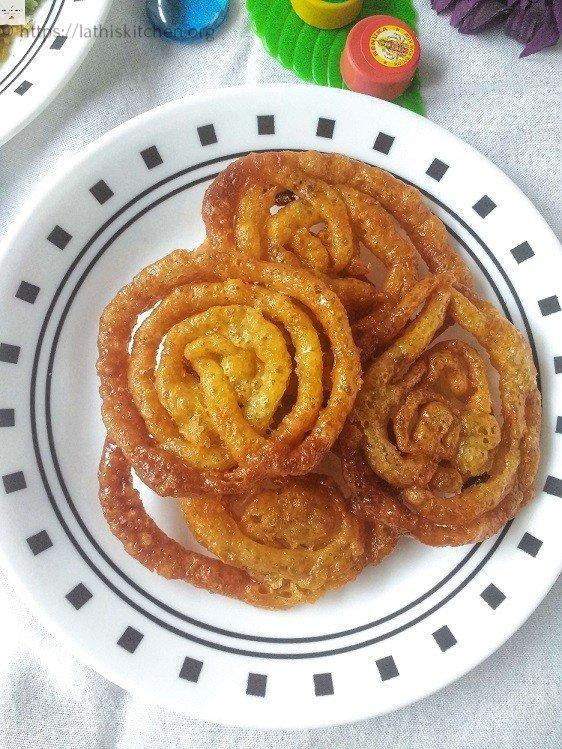jalebi: (90, 141, 544, 602)
